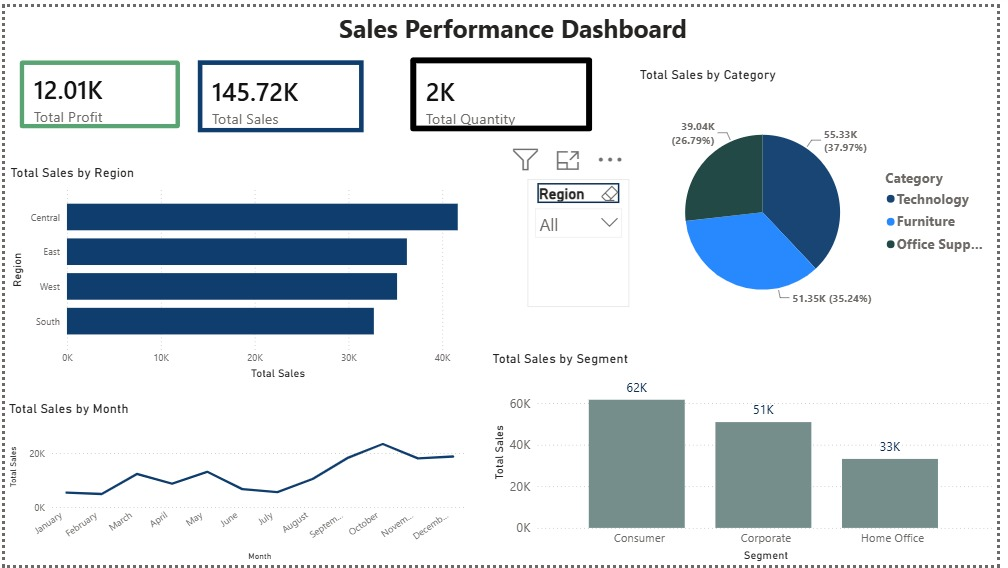

The dashboard page shown, as its layout file describes it:
{"tool":"powerbi","page":{"name":"Page 1","canvas":[1280,720],"ordinal":0},"visuals":[{"type":"cardVisual","fields":{"Data":["Orders.Total Sales"]},"box":[231.2,52.1,248.1,127.1],"z":0},{"type":"cardVisual","fields":{"Data":["Orders.Total Quantity"]},"box":[505.3,49,269.5,130.2],"z":1000},{"type":"cardVisual","fields":{"Data":["Orders.Total Profit"]},"box":[1.6,52.5,241.8,122.5],"z":2000},{"type":"clusteredBarChart","fields":{"Category":["Orders.Region"],"Y":["Orders.Total Sales"]},"box":[1.6,203.6,637.8,281.5],"z":3000},{"type":"pieChart","fields":{"Y":["Orders.Total Sales"],"Category":["Orders.Category"]},"box":[814.3,77.9,462.8,354.7],"z":4000},{"type":"lineChart","fields":{"Category":["Orders.Order Date.Variation.Date Hierarchy.Year","Orders.Order Date.Variation.Date Hierarchy.Quarter","Orders.Order Date.Variation.Date Hierarchy.Month","Orders.Order Date.Variation.Date Hierarchy.Day"],"Y":["Orders.Total Sales"]},"box":[0,509,601.2,211.5],"z":5000},{"type":"slicer","fields":{"Values":["Orders.Region"]},"box":[674.4,221.1,132,165.4],"z":6000},{"type":"textbox","box":[426.3,0,620.3,55.7],"z":7000},{"type":"clusteredColumnChart","fields":{"Category":["Orders.Segment"],"Y":["Orders.Total Sales"]},"box":[623.5,443.8,656.9,276.8],"z":8000}]}

Visuals, with their boxes in screenshot pixels (x1, y1, x2, y2), scaled from the page's 1280x720 canvas onto the 1008x568 screenshot:
cardVisual - Orders.Total Sales: (182, 41, 377, 141)
cardVisual - Orders.Total Quantity: (398, 39, 610, 141)
cardVisual - Orders.Total Profit: (1, 41, 192, 138)
clusteredBarChart - Orders.Region x Orders.Total Sales: (1, 161, 504, 383)
pieChart - Orders.Total Sales x Orders.Category: (641, 61, 1006, 341)
lineChart - Orders.Order Date.Variation.Date Hierarchy.Year x Orders.Order Date.Variation.Date Hierarchy.Quarter: (0, 402, 473, 567)
slicer - Orders.Region: (531, 174, 635, 305)
textbox: (336, 0, 824, 44)
clusteredColumnChart - Orders.Segment x Orders.Total Sales: (491, 350, 1007, 567)
